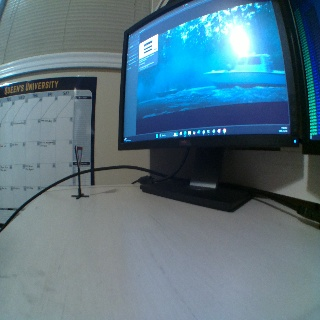sign_yield: (74, 144, 83, 167)
